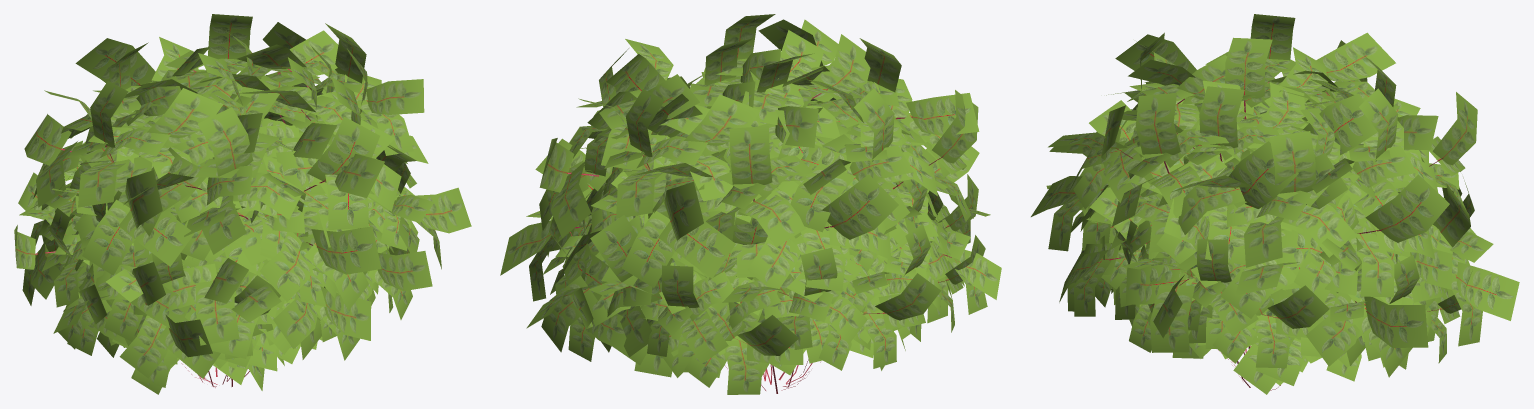
The model's file is Cornus alba Baton Rouge.obj.
3 renders of one model, left to right at view 1: azimuth 30°, elevation 25°; view 2: azimuth 150°, elevation 25°; view 3: azimuth 270°, elevation 25°, orthographic.
Visible parts, largest first — view 1: Cornus_alba_Baton_Rouge; view 2: Cornus_alba_Baton_Rouge; view 3: Cornus_alba_Baton_Rouge.
Part boxes in pixels (left/top/right/bottom): Cornus_alba_Baton_Rouge: left=14, top=14, right=471, bottom=394; Cornus_alba_Baton_Rouge: left=500, top=14, right=1001, bottom=394; Cornus_alba_Baton_Rouge: left=1031, top=14, right=1519, bottom=394.
Bounding box in the file's own units: 1.44 × 1.14 × 1.52.
1 material, 1 textured.
